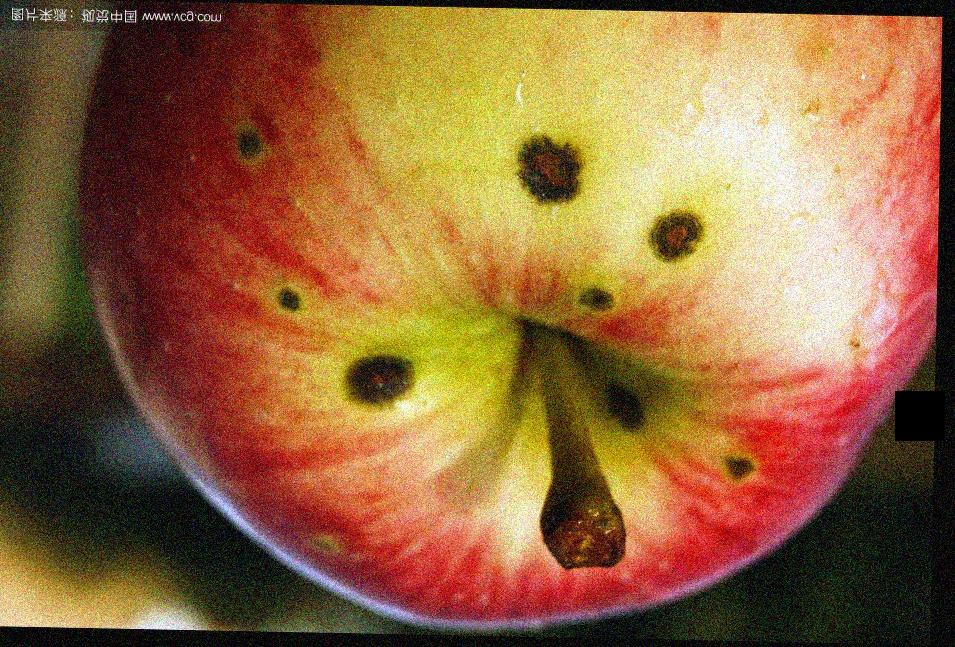rotten apple: (75, 7, 937, 635)
